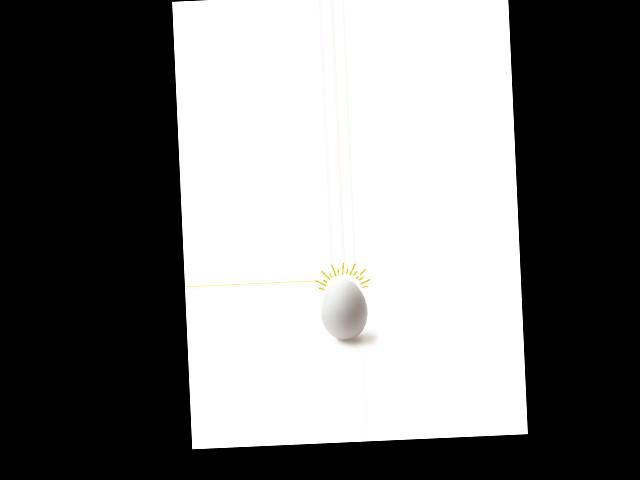egg: (319, 278, 368, 340)
